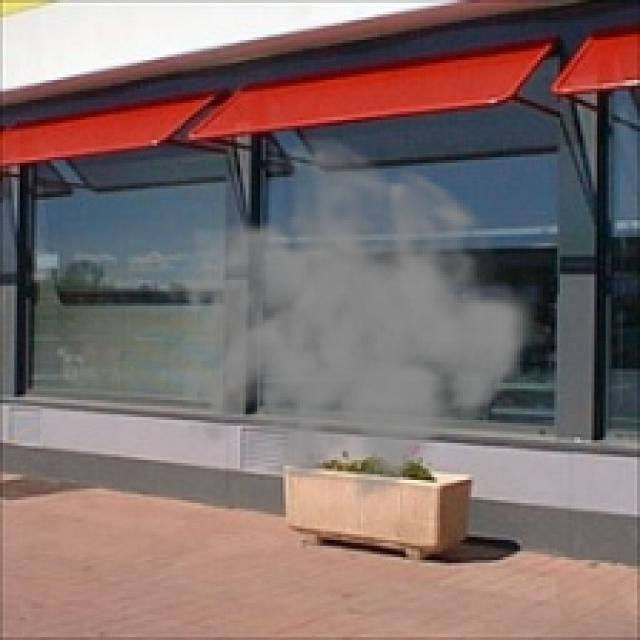smoke: (160, 132, 540, 514)
